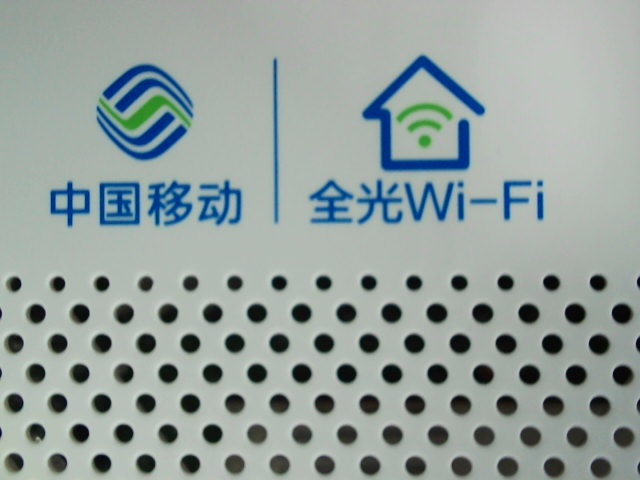BJ_QuanGuangMobile: (37, 51, 555, 237)
